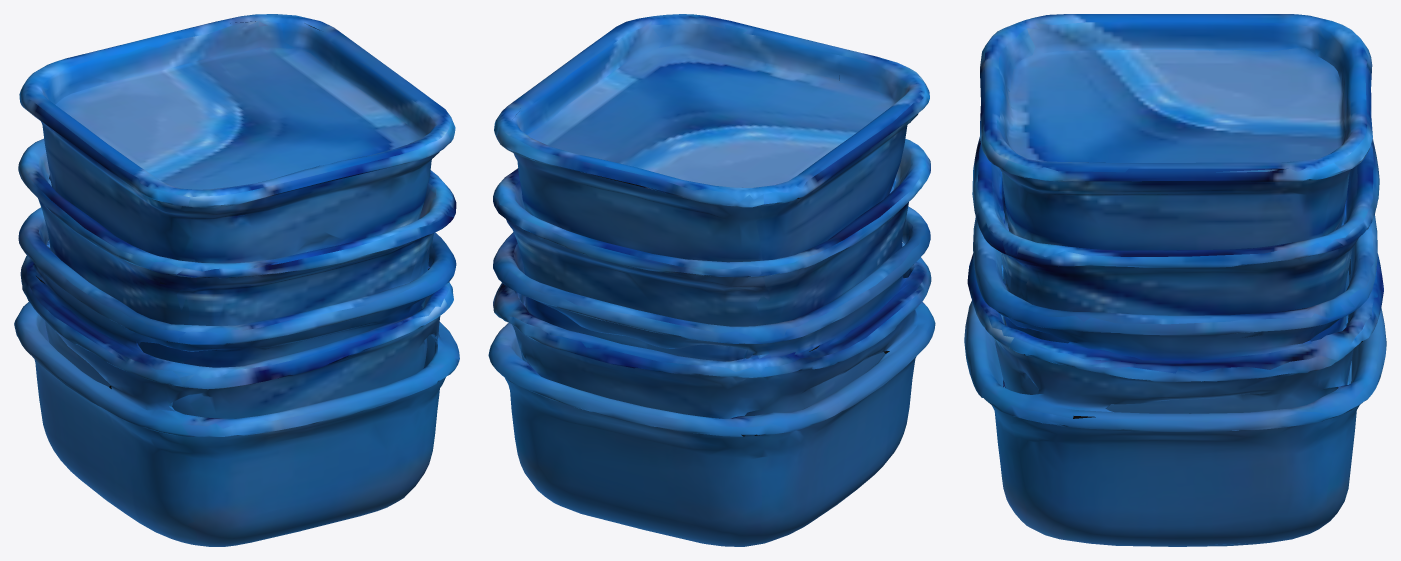
The model's file is meat-tubs-stack.glb.
3 views of the same model, side by side, from view 1: azimuth 30°, elevation 25°; view 2: azimuth 150°, elevation 25°; view 3: azimuth 270°, elevation 25° (orthographic). The views are drawn at different scales.
Parts seen in each view (by area): view 1: cowninja-meat-tubs-stack; view 2: cowninja-meat-tubs-stack; view 3: cowninja-meat-tubs-stack.
Boxes of the visible parts, x1,y1,x2,y2 form: cowninja-meat-tubs-stack: (14, 14, 459, 546); cowninja-meat-tubs-stack: (488, 14, 935, 546); cowninja-meat-tubs-stack: (964, 14, 1386, 546).
Bounding box in the file's own units: 1.14 × 1.2 × 1.14.
1 material, 1 textured.
